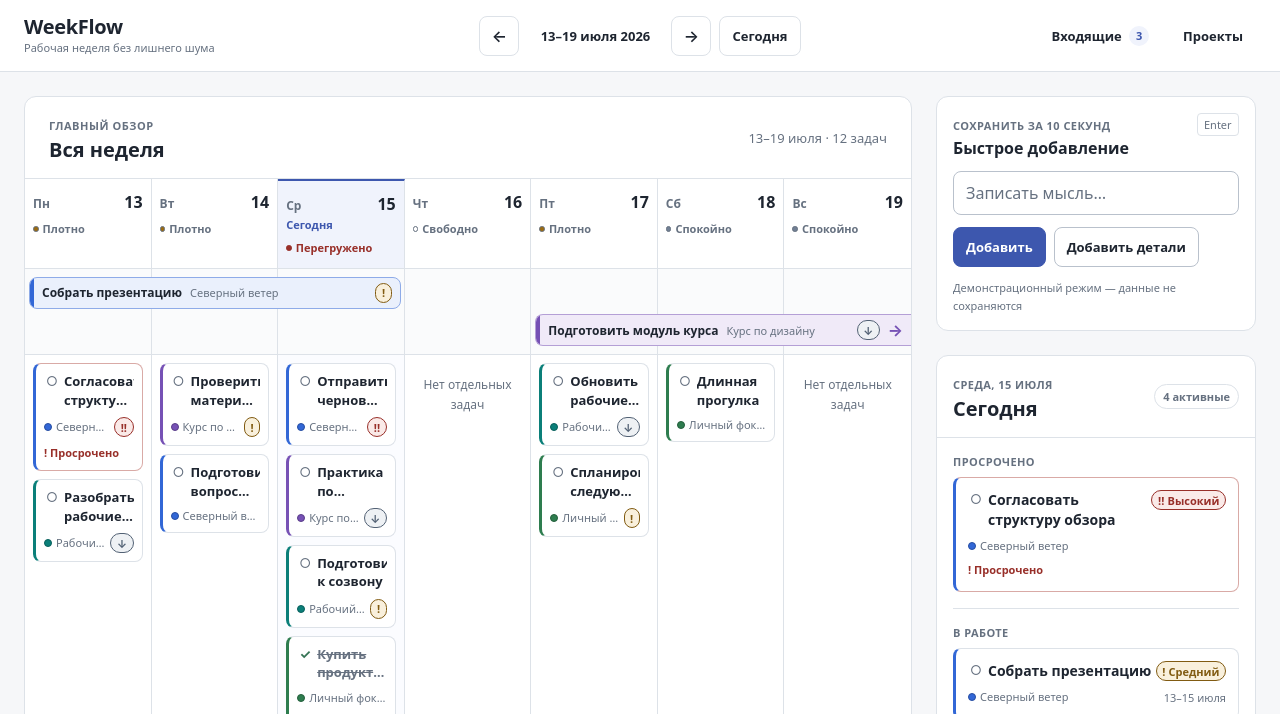
App › безопасно демонстрирует быстрое добавление без сохранения данных
Type "Проверить новую мысль" into the field with placeholder "Записать мысль…". click: {"x": 1096, "y": 193}
box: [953,171,1239,215]
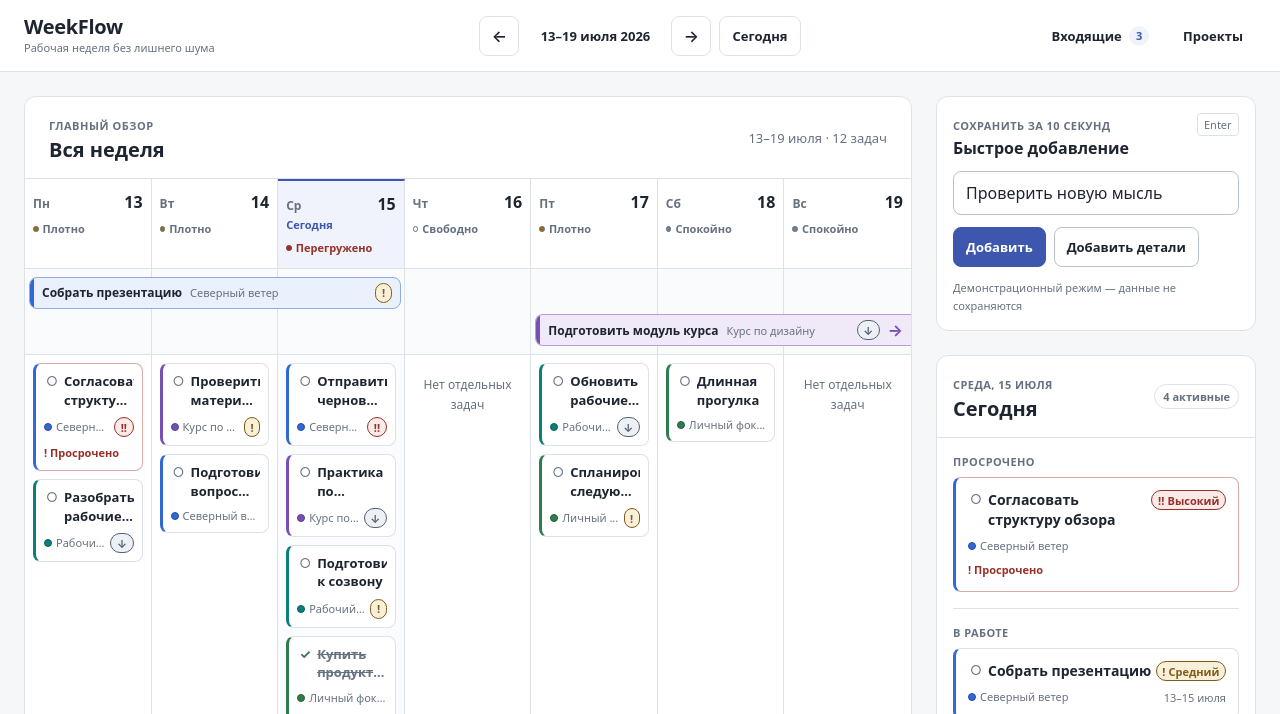
Click the button "Добавить". click: {"x": 999, "y": 247}
box: [953,227,1046,267]
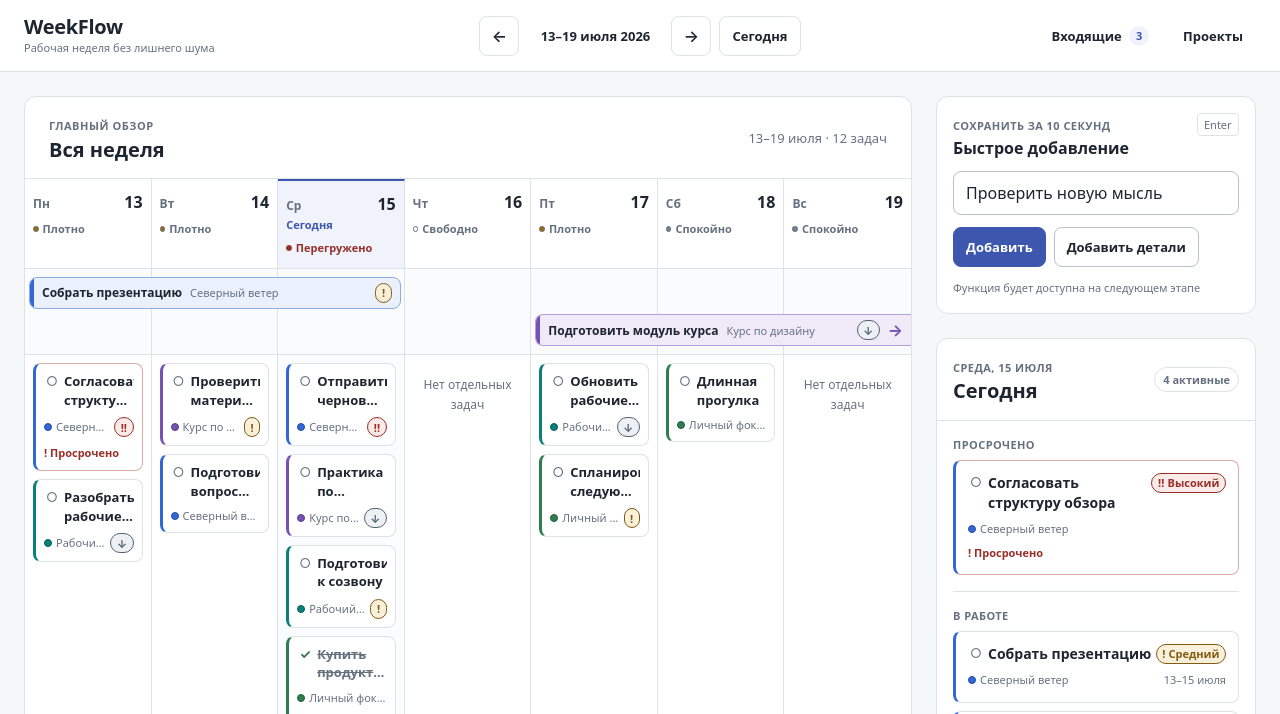
Now the text "Функция будет доступна на следующем этапе" is shown, box [953,279,1239,297]
